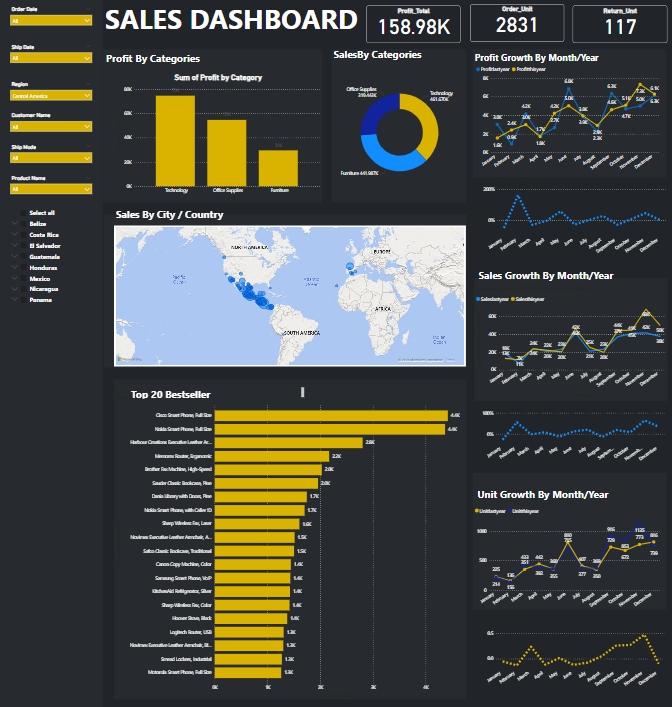

What the dashboard file says about the page in this screenshot:
{"tool":"powerbi","page":{"name":"Page 1","canvas":[1800,1900],"ordinal":0},"visuals":[{"type":"shape","box":[0,0,276,1901.4],"z":0},{"type":"textbox","box":[276,0,704,158],"z":1000},{"type":"slicer","fields":{"Values":["Orders.Order Date"]},"box":[20,18,238,84],"z":2000},{"type":"slicer","fields":{"Values":["Orders.Ship Date"]},"box":[20,116,238,84],"z":3000},{"type":"slicer","fields":{"Values":["Orders.Region"]},"box":[20,216,238,84],"z":4000},{"type":"slicer","fields":{"Values":["Orders.Customer Name"]},"box":[20,300,238,84],"z":5000},{"type":"slicer","fields":{"Values":["Orders.Ship Mode"]},"box":[20,384,238,84],"z":6000},{"type":"slicer","fields":{"Values":["Orders.Product Name"]},"box":[20,468,238,84],"z":7000},{"type":"slicer","fields":{"Values":["Orders.Country","Orders.City"]},"box":[20,552,238,1320],"z":8000},{"type":"card","title":"Profit_Total","fields":{"Values":["Sum(Orders.Profit)"]},"box":[980,18.3,250,100],"z":9000},{"type":"card","title":"Order_Unit","fields":{"Values":["Count(Orders.Order ID)"]},"box":[1255,16.7,250,100],"z":10000},{"type":"card","title":"Return_Unıt","fields":{"Values":["CountNonNull(Returns.Returned)"]},"box":[1530,18.3,251.7,100],"z":11000},{"type":"shape","box":[275.6,136.3,585.3,408.8],"z":12000},{"type":"shape","box":[885.7,136.3,359.2,408.8],"z":13000},{"type":"shape","box":[1264,136,516,342],"z":14000},{"type":"shape","box":[278.7,576,966.2,408.8],"z":15000},{"type":"shape","box":[1266,746,516,328],"z":16000},{"type":"shape","box":[306,1018,940,854],"z":17000},{"type":"textbox","box":[278.7,136.3,520.3,61.9],"z":18000},{"type":"clusteredColumnChart","fields":{"Category":["Orders.Category"],"Y":["Sum(Orders.Profit)"]},"box":[306,200,556,346],"z":19000},{"type":"textbox","box":[886,126,520,62],"z":20000},{"type":"donutChart","fields":{"Category":["Orders.Category"],"Y":["Sum(Orders.Sales)"]},"box":[894,168,350,384],"z":21000},{"type":"map","fields":{"Category":["Orders.City","Orders.Country"],"Size":["Sum(Orders.Sales)"]},"box":[306,608,938,376],"z":22000},{"type":"textbox","box":[306,552,520,62],"z":23000},{"type":"clusteredBarChart","fields":{"Category":["Orders.Product Name"],"Y":["Sum(Orders.Profit)"]},"box":[308,1054,938,818],"z":24000},{"type":"textbox","box":[348,1034,472,40],"z":25000},{"type":"textbox","box":[1262,136,520,62],"z":26000},{"type":"textbox","box":[1272,718,520,62],"z":27000},{"type":"shape","box":[1264,1268,516,364],"z":28000},{"type":"textbox","box":[1270,1300,520,63.3],"z":29000},{"type":"lineChart","title":"Profit last year by Month","fields":{"Y":["Orders.Saleslastyear","Orders.Profitthisyear"],"Category":["Calendar.Date.Variation.Date Hierarchy.Month"]},"box":[1266.7,168.3,501.7,310],"z":30000},{"type":"lineChart","fields":{"Category":["Calendar.Date.Variation.Date Hierarchy.Month"],"Y":["Orders.Saleslastyear","Orders.Salesthisyear"]},"box":[1268,764,516,310],"z":31000},{"type":"lineChart","title":"Profit last year by Month","fields":{"Category":["Calendar.Date.Variation.Date Hierarchy.Month"],"Y":["Orders.Unitlastyear","Orders.Unitthisyear"]},"box":[1263.3,1345,503.3,300],"z":32000},{"type":"lineChart","fields":{"Y":["Orders.SalesBuyume"],"Category":["Calendar.Date.Variation.Date Hierarchy.Month"]},"box":[1263.3,1073.3,516.7,173.3],"z":33000},{"type":"lineChart","fields":{"Category":["Calendar.Date.Variation.Date Hierarchy.Month"],"Y":["Orders.ProfitGrowth11"]},"box":[1266,478,516,236],"z":34000},{"type":"lineChart","fields":{"Category":["Calendar.Date.Variation.Date Hierarchy.Month"],"Y":["Orders.UnitBuyume"]},"box":[1264,1648,516,220],"z":35000}]}

Visuals, with their boxes in screenshot pixels (x1, y1, x2, y2), scaled from the page's 1800x1900 canvas onto the 672x707 screenshot:
shape: 0/0/103/706
textbox: 103/0/366/59
slicer - Orders.Order Date: 7/7/96/38
slicer - Orders.Ship Date: 7/43/96/74
slicer - Orders.Region: 7/80/96/112
slicer - Orders.Customer Name: 7/112/96/143
slicer - Orders.Ship Mode: 7/143/96/174
slicer - Orders.Product Name: 7/174/96/205
slicer - Orders.Country x Orders.City: 7/205/96/697
"Profit_Total" card: 366/7/459/44
"Order_Unit" card: 469/6/562/43
"Return_Unıt" card: 571/7/665/44
shape: 103/51/321/203
shape: 331/51/465/203
shape: 472/51/665/178
shape: 104/214/465/366
shape: 473/278/665/400
shape: 114/379/465/697
textbox: 104/51/298/74
clusteredColumnChart - Orders.Category x Sum(Orders.Profit): 114/74/322/203
textbox: 331/47/525/70
donutChart - Orders.Category x Sum(Orders.Sales): 334/63/464/205
map - Orders.City x Orders.Country: 114/226/464/366
textbox: 114/205/308/228
clusteredBarChart - Orders.Product Name x Sum(Orders.Profit): 115/392/465/697
textbox: 130/385/306/400
textbox: 471/51/665/74
textbox: 475/267/669/290
shape: 472/472/665/607
textbox: 474/484/668/507
"Profit last year by Month" lineChart: 473/63/660/178
lineChart - Calendar.Date.Variation.Date Hierarchy.Month x Orders.Saleslastyear: 473/284/666/400
"Profit last year by Month" lineChart: 472/500/660/612
lineChart - Orders.SalesBuyume x Calendar.Date.Variation.Date Hierarchy.Month: 472/399/665/464
lineChart - Calendar.Date.Variation.Date Hierarchy.Month x Orders.ProfitGrowth11: 473/178/665/266
lineChart - Calendar.Date.Variation.Date Hierarchy.Month x Orders.UnitBuyume: 472/613/665/695
